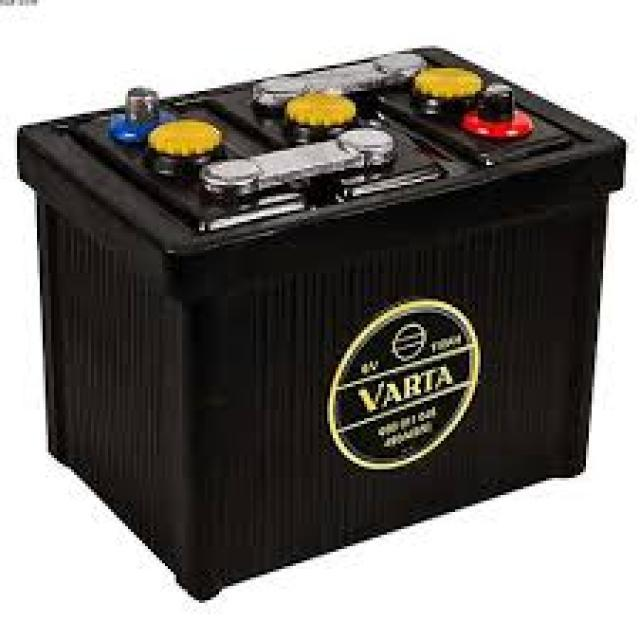Battery: (11, 29, 639, 595)
